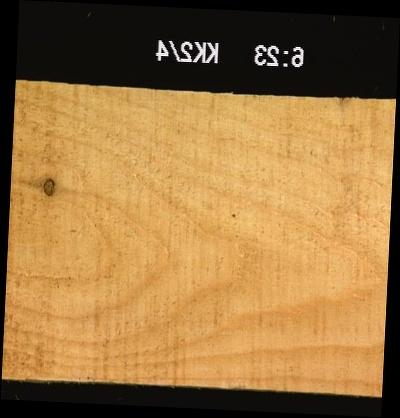dry_knot: (40, 175, 56, 199)
